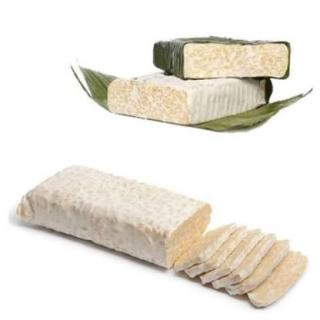Tempe: (13, 163, 312, 312), (106, 34, 292, 130)
